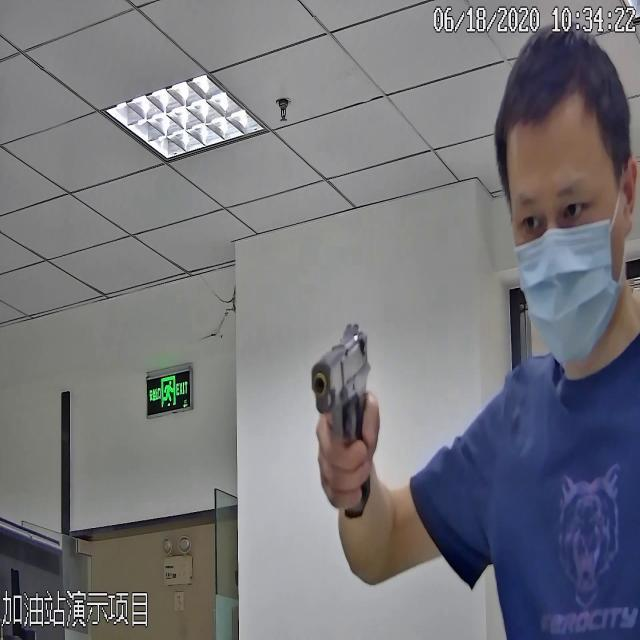gun-knife-thesis - v11 Yolov5 augmented: (308, 319, 380, 524)
